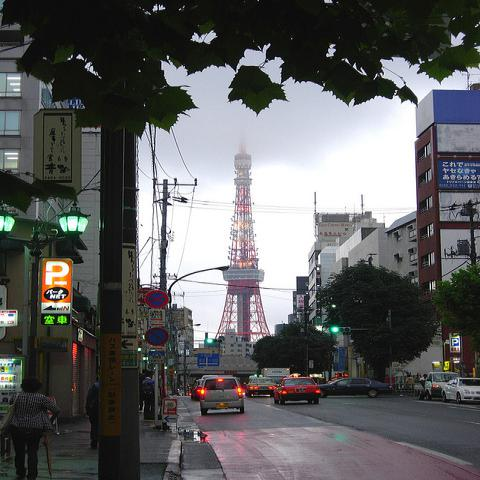car: (198, 376, 246, 418), (320, 376, 394, 397), (273, 376, 321, 406), (414, 372, 461, 400), (441, 376, 479, 404), (244, 377, 276, 397), (190, 378, 204, 400)
truck: (260, 368, 290, 383)
